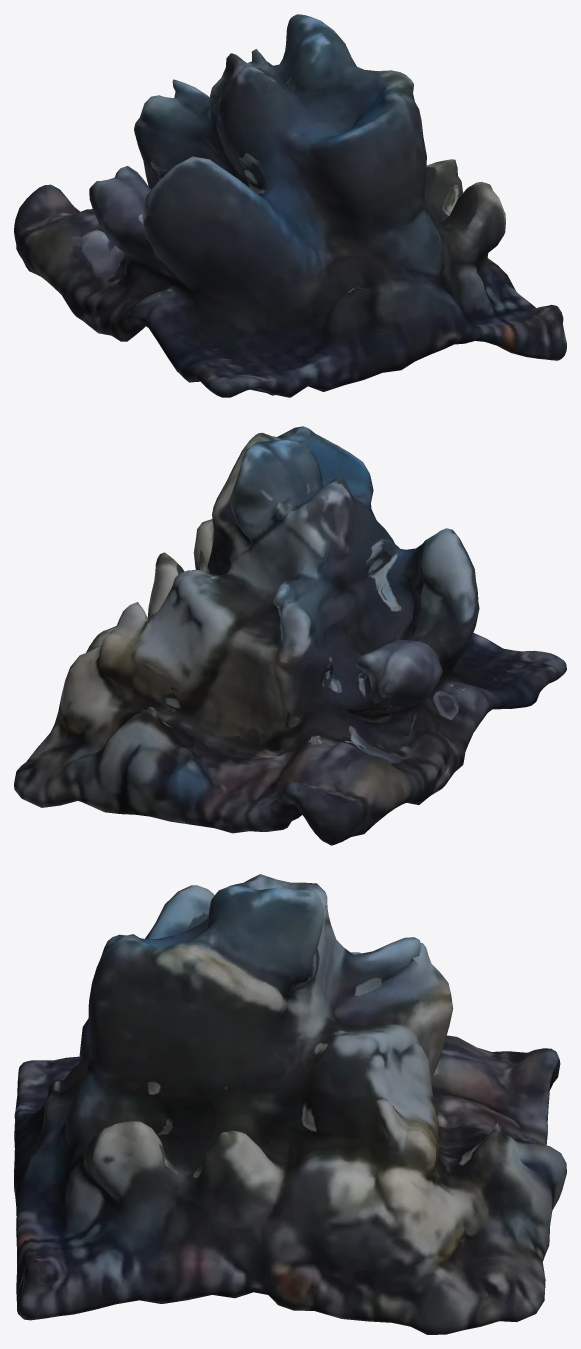
Rendered from oceanRubble2-transformed.glb.
3 renders of one model, top to bottom at view 1: azimuth 30°, elevation 25°; view 2: azimuth 150°, elevation 25°; view 3: azimuth 270°, elevation 25°, orthographic. The views are drawn at different scales.
Visible parts, largest first — view 1: mesh; view 2: mesh; view 3: mesh.
Part boxes in pixels (x1,y1,x2,y2): mesh: (14, 14, 566, 397); mesh: (14, 426, 566, 845); mesh: (14, 874, 566, 1334).
Size of the model in its own units: 0.8898 by 0.7166 by 0.9948.
1 material, 1 textured.
